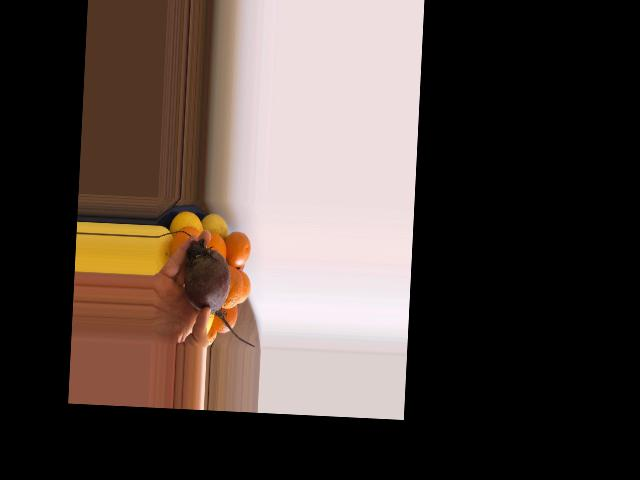beet: (181, 239, 259, 346)
